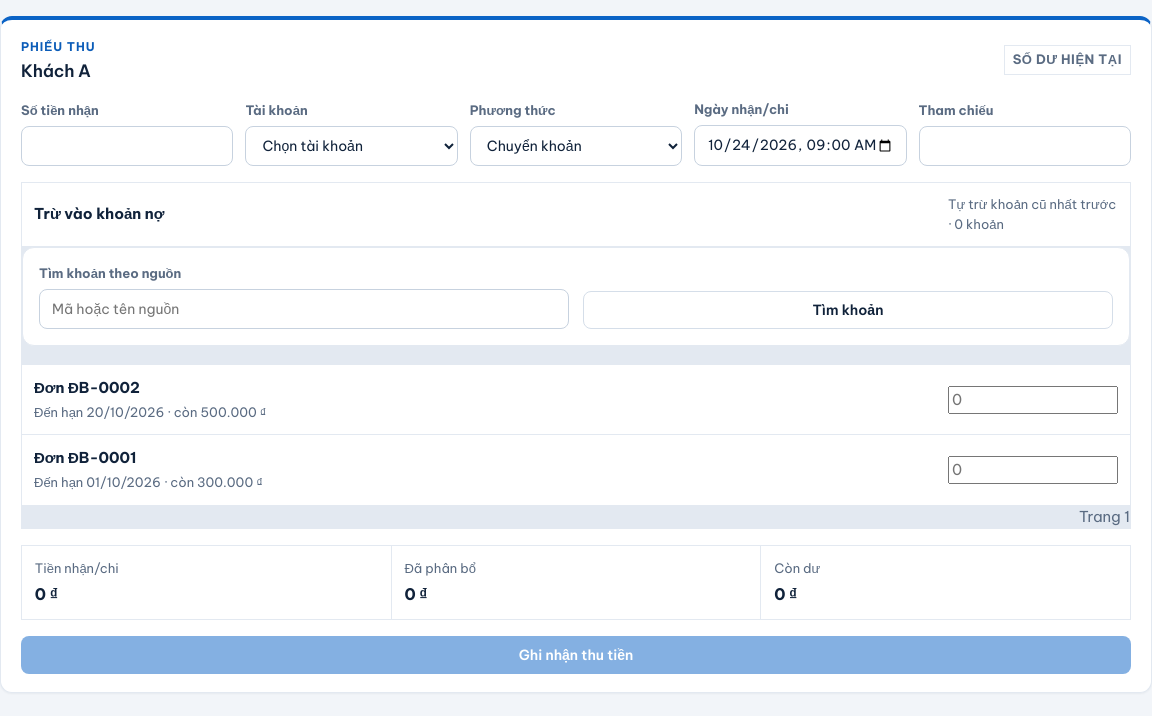
fills the allocation from the amount and asks before keeping money as an advance
Type "400.000" into the field labelled "Số tiền nhận" at (127, 146), box [21,126,233,166]
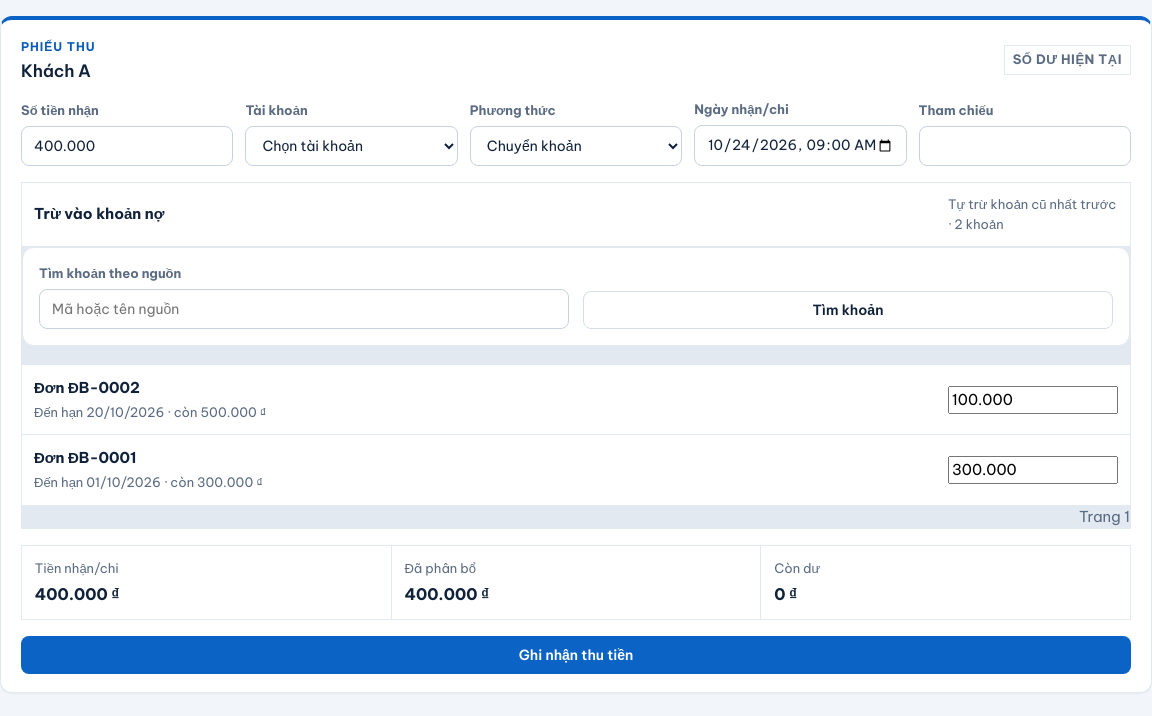
expect the field named "Phân bổ cho Đơn ĐB-0001" holds "300.000": met, box [948,456,1118,484]
expect the field named "Phân bổ cho Đơn ĐB-0002" holds "100.000": met, box [948,386,1118,414]
expect the button "Ghi nhận thu tiền" is enabled: met, box [21,636,1131,674]
Replace the text in the field labelled "Số tiền nhận" with "900.000" at (127, 146), box [21,126,233,166]
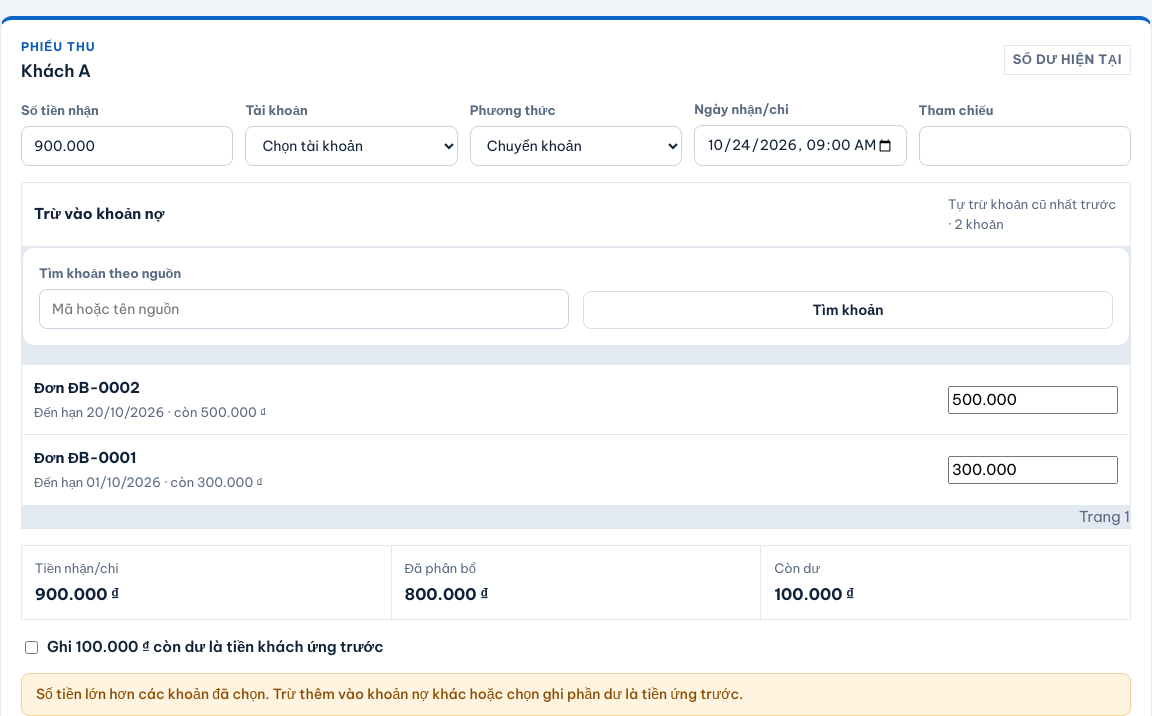
Click the checkbox labelled "Ghi 100.000 ₫ còn dư là tiền khách ứng trước" at (32, 648), box [25,641,38,654]
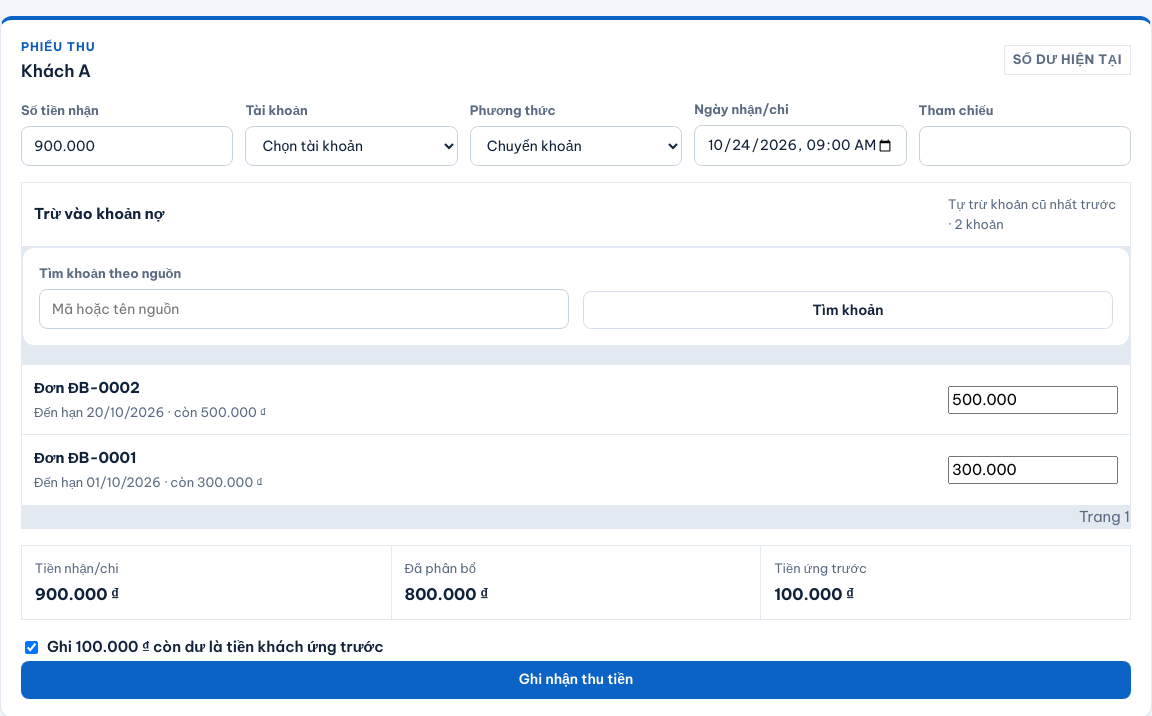
expect the button "Ghi nhận thu tiền" is enabled: met, box [21,660,1131,698]
